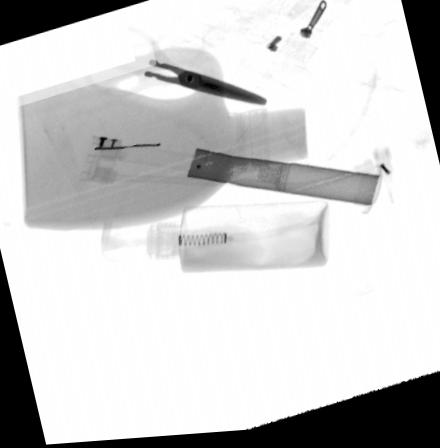Scissors: (80, 22, 267, 108)
